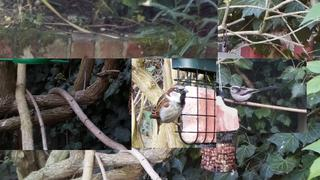long tailed tit: (228, 85, 280, 105)
sparrow: (149, 85, 190, 135)
